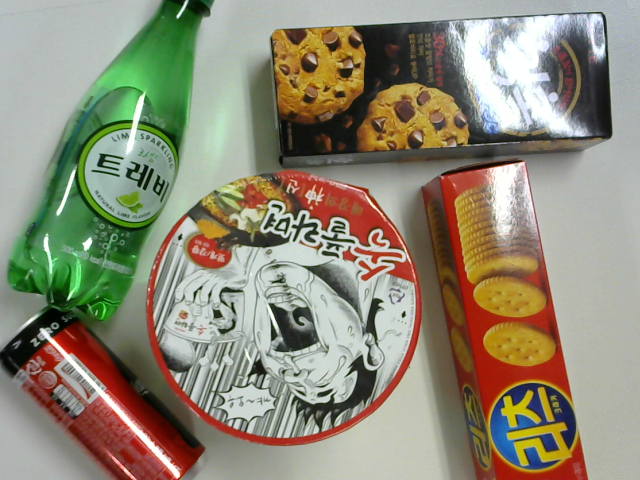Chicchok_Original_2400: (261, 10, 615, 160)
Coca_Cola_Zero_Can_250ml: (3, 304, 205, 480)
Hejangpul: (147, 170, 419, 438)
Ritz_Cracker: (419, 162, 593, 480)
Treviraim_500ml: (13, 4, 219, 320)
